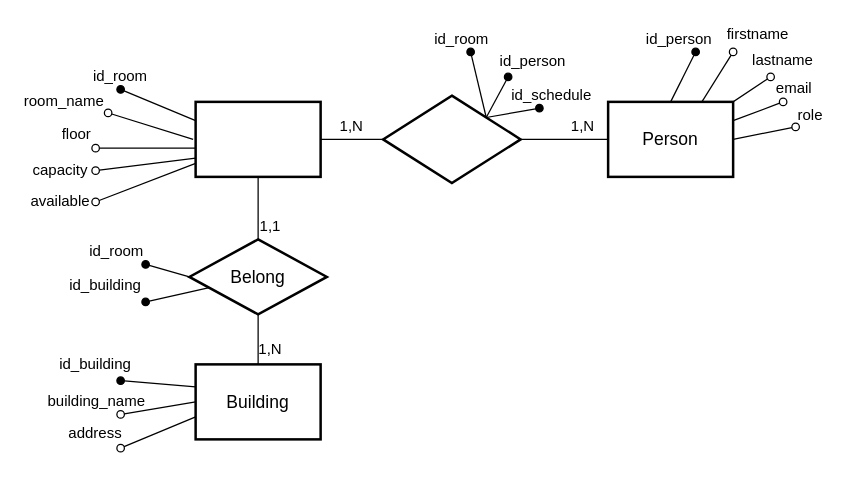
This 856x480 diagram has some shape labels left out. The shapes that lost their labels are listed below. From the top down, each one's centre as x and y in pixels, then its label:
the point at 257,139: Room
the point at 451,139: Booking
